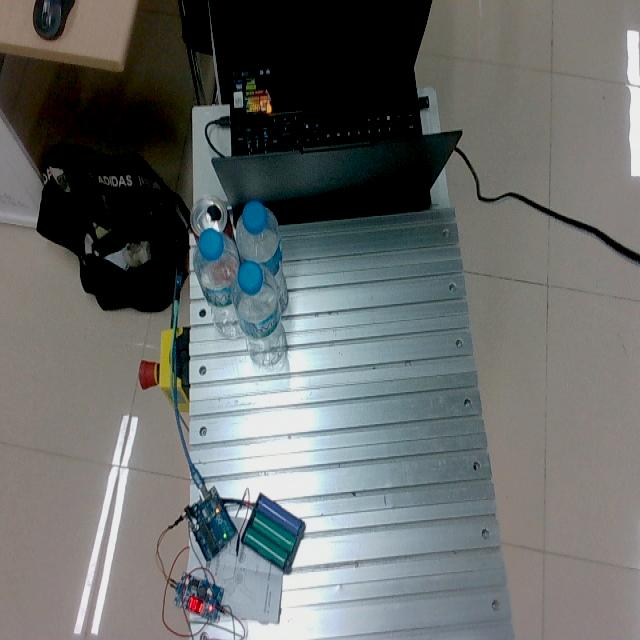coca: (189, 194, 231, 250)
lavie: (233, 260, 291, 368), (235, 201, 288, 316), (193, 225, 243, 338)
